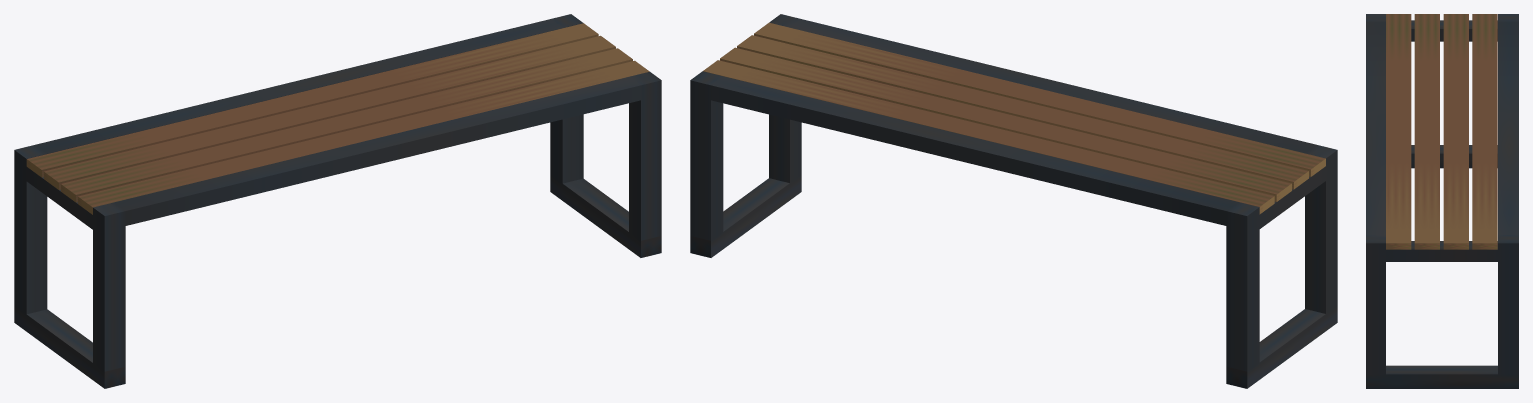
The model's file is Metalwoodbench1.fbx.
3 views of the same model, side by side, from view 1: azimuth 30°, elevation 25°; view 2: azimuth 150°, elevation 25°; view 3: azimuth 270°, elevation 25° (orthographic). The views are drawn at different scales.
Visible parts, largest first — view 1: Metalwoodbench1; view 2: Metalwoodbench1; view 3: Metalwoodbench1.
Boxes of the visible parts, x1=… form: Metalwoodbench1: x1=14, y1=14, x2=661, y2=388; Metalwoodbench1: x1=690, y1=14, x2=1337, y2=388; Metalwoodbench1: x1=1366, y1=14, x2=1518, y2=388.
Bounding box in the file's own units: 167 × 49.65 × 47.16.
Materials: 1 (1 with a texture image).
